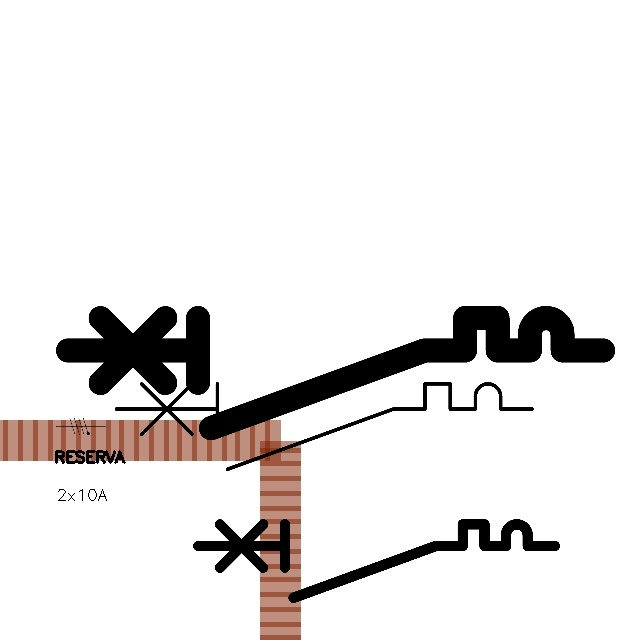interruptor_termomagnetico: (54, 304, 617, 441), (105, 373, 543, 480), (189, 515, 564, 607)
